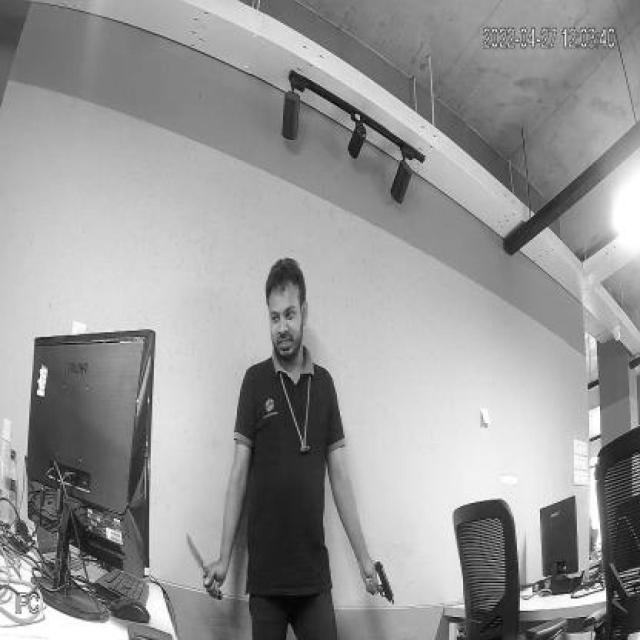weapon: (365, 559, 395, 605)
